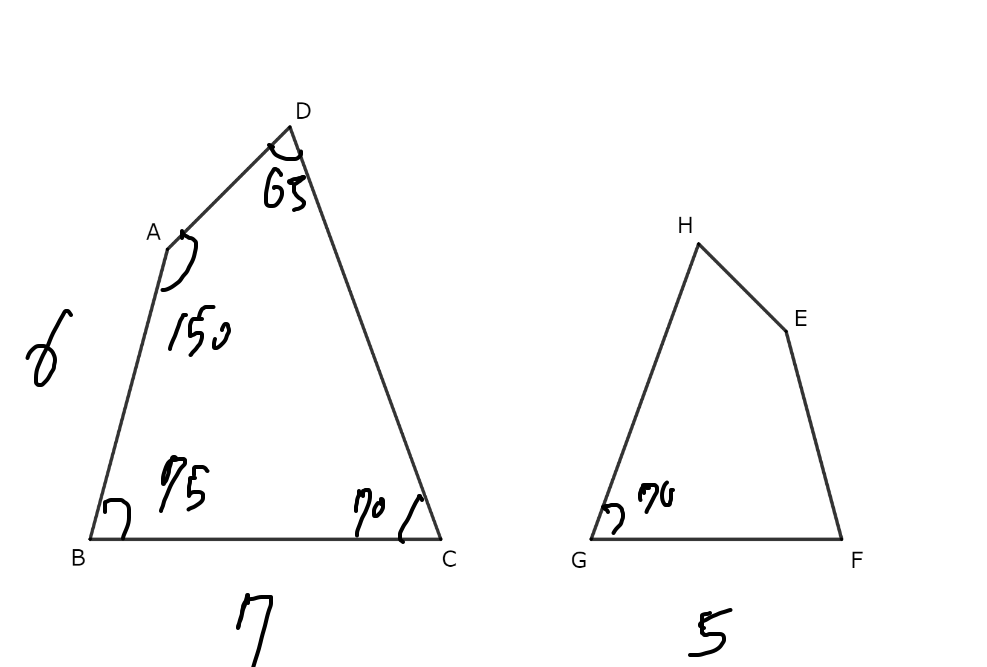Angle_Scurve: (155, 229, 201, 295), (393, 492, 435, 546), (101, 495, 141, 542), (262, 136, 308, 166), (601, 500, 628, 535)
